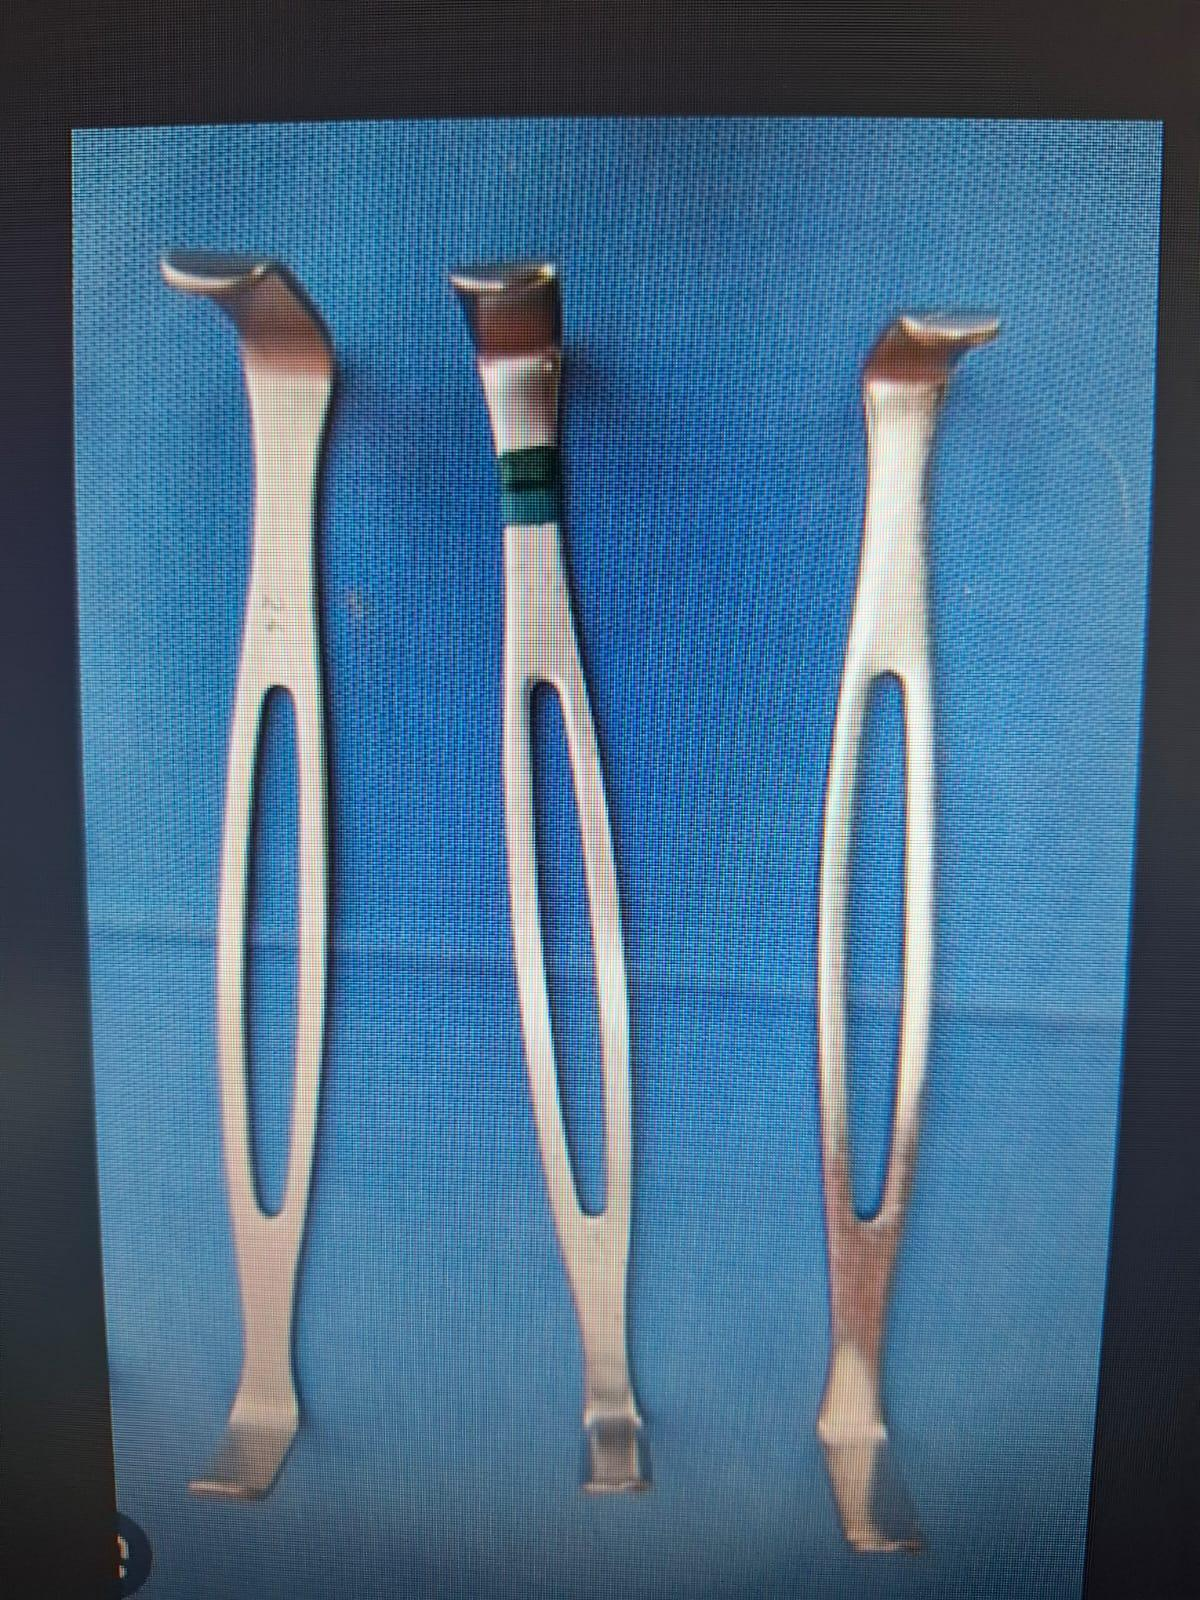Army Navy Retractor: (793, 282, 1017, 1575), (137, 231, 358, 1513)
